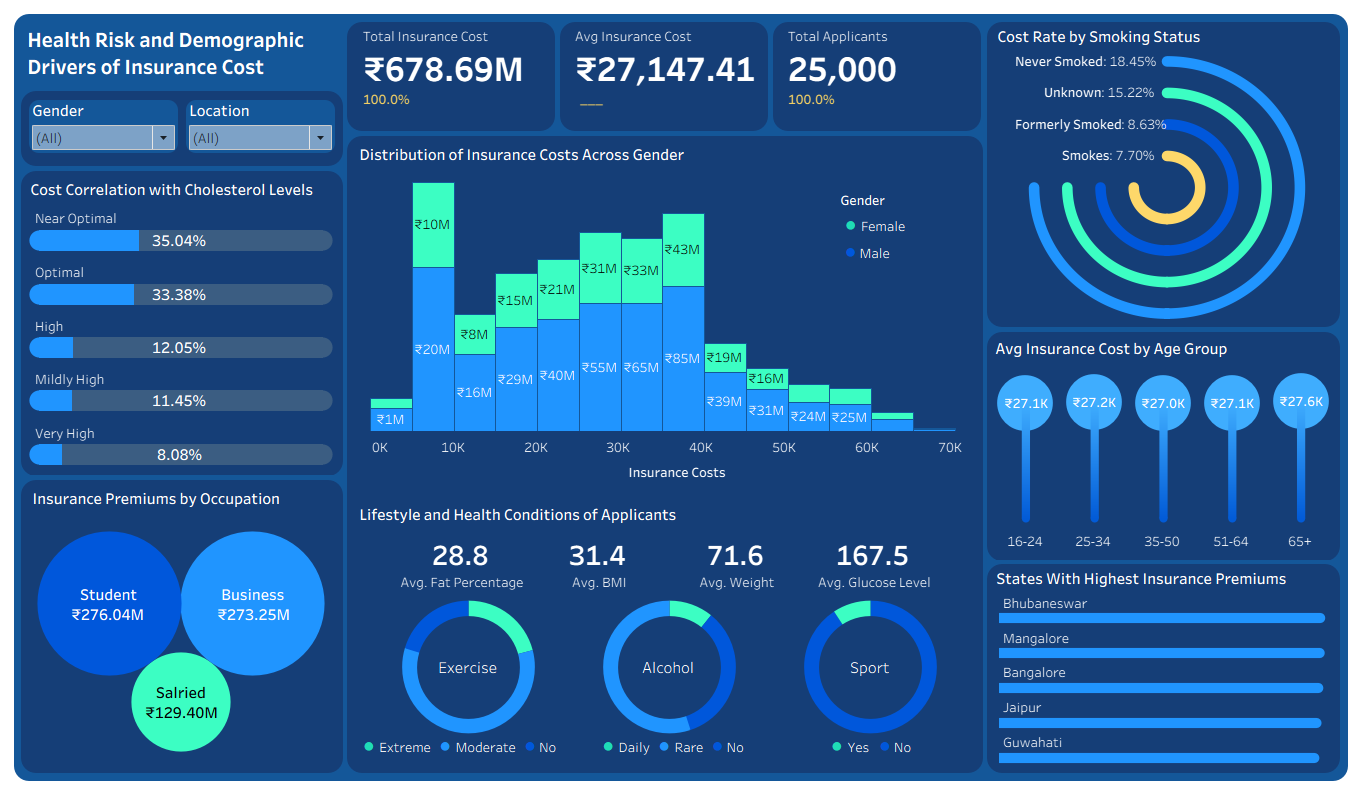

The dashboard page shown, as its layout file describes it:
{"tool":"tableau","page":{"name":"Overview","canvas":[1000,1000],"units":"permille","ordinal":0},"visuals":[{"type":"worksheet","title":"Total Insure","mark":"Automatic","box":[296.3,52.9,126.1,134]},{"type":"worksheet","title":"Avg Insure","mark":"Automatic","box":[424.9,52.9,126.1,134]},{"type":"worksheet","title":"Count of App.","mark":"Automatic","box":[554,52.9,126.1,134]},{"type":"blank","box":[89.9,56.4,808.7,902.5]},{"type":"text","box":[96,58.8,210.6,85.8]},{"type":"text","box":[683.8,62.3,188.9,41.1]},{"type":"blank","box":[291.5,65.8,126.1,128.1]},{"type":"blank","box":[420.6,65.8,126.1,128.1]},{"type":"blank","box":[549.8,65.8,126.1,128.1]},{"type":"blank","box":[679.5,65.8,214.2,358.4]},{"type":"worksheet","title":"Smoking Radial","mark":"Line","box":[696.4,90.5,183.5,338.4]},{"type":"blank","box":[94.2,146.9,194.9,88.1]},{"type":"filter","title":"Filters","param":"[federated.0mix84j1bg9yli1973xne18jgpg7].[none:Gender:nk]","box":[99,157.5,90.5,62.3]},{"type":"filter","title":"Filters","param":"[federated.0mix84j1bg9yli1973xne18jgpg7].[none:Location:nk]","box":[193.7,157.5,90.5,62.3]},{"type":"blank","box":[291.6,199.8,385.2,749.7]},{"type":"text","box":[296.9,200.9,214.8,41.1]},{"type":"worksheet","title":"Filters","mark":"Automatic","box":[284.9,216.2,333.1,332.6]},{"type":"worksheet","title":"Dist, Ins. by Gender","mark":"Bar","rows":["applicant_id"],"cols":["Insurance Cost (bin)"],"box":[305.4,240,372.1,374.1]},{"type":"blank","box":[94.2,240.9,194.9,358.4]},{"type":"text","box":[97.8,242.1,176.8,41.1]},{"type":"text","box":[588.7,260.9,59.6,94]},{"type":"worksheet","title":"Cholestrol Level Labels","mark":"Circle","rows":["cholesterol_level"],"box":[99,264.4,141.2,316.1]},{"type":"worksheet","title":"Cholestrol Level","mark":"Automatic","rows":["cholesterol_level"],"box":[90.5,291.4,201,313.8]},{"type":"text","box":[682.6,428.9,187.7,41.1]},{"type":"blank","box":[679.5,430.1,214.2,269.1]},{"type":"worksheet","title":"Age Dist.","mark":"Line","rows":["insurance_cost"],"box":[682,472.4,208.2,215]},{"type":"blank","box":[94.2,605.2,194.9,344.3]},{"type":"text","box":[99,606.4,172,41.1]},{"type":"text","box":[297,624.7,206.1,41.2]},{"type":"worksheet","title":"Medical Status","mark":"Automatic","box":[318.7,640.4,333.1,104.6]},{"type":"worksheet","title":"Occupation","mark":"Circle","box":[103,655.7,174.9,278.5]},{"type":"worksheet","title":"Medical Status Titles","mark":"Automatic","box":[318.2,687.1,332.7,70.6]},{"type":"text","box":[683,700,194.6,41.2]},{"type":"blank","box":[679.5,703.9,214.2,245.6]},{"type":"worksheet","title":"Exercise Chart","mark":"Pie","cols":["Calculation_1264201156042767","Calculation_1264201156079633"],"box":[304.2,722.7,121.9,204.5]},{"type":"worksheet","title":"Alcohol","mark":"Pie","cols":["Calculation_1264201156042767","Calculation_1264201156079633"],"box":[426.1,722.7,121.9,204.5]},{"type":"worksheet","title":"Sport","mark":"Pie","cols":["Calculation_1264201156042767","Calculation_1264201156079633"],"box":[548,722.7,121.9,204.5]},{"type":"worksheet","title":"Location Labels","mark":"Circle","rows":["Location (copy)_1246884514562048"],"box":[685.6,728.6,144.8,204.5]},{"type":"worksheet","title":"Location","mark":"Line","rows":["Location (copy)_1246884514562048"],"box":[686.8,746.2,204.6,205.6]},{"type":"text","box":[294.7,895.4,130.3,41.1]},{"type":"text","box":[436.7,895.4,104.2,41.1]},{"type":"text","box":[574.5,895.4,68.8,41.1]}]}

Visuals, with their boxes on the dashboard's canvas, which has no fixed pixel size, in thousandths of its width and height (x1, y1, x2, y2). These are canvas units, not pixel positions in the 1361x792 screenshot, which may show the page scaled, cropped or inside an application window:
"Total Insure" worksheet: [296,53,422,187]
"Avg Insure" worksheet: [425,53,551,187]
"Count of App." worksheet: [554,53,680,187]
blank: [90,56,899,959]
text: [96,59,307,145]
text: [684,62,873,103]
blank: [292,66,418,194]
blank: [421,66,547,194]
blank: [550,66,676,194]
blank: [680,66,894,424]
"Smoking Radial" worksheet (Line marks): [696,90,880,429]
blank: [94,147,289,235]
"Filters" filter: [99,158,190,220]
"Filters" filter: [194,158,284,220]
blank: [292,200,677,950]
text: [297,201,512,242]
"Filters" worksheet: [285,216,618,549]
"Dist, Ins. by Gender" worksheet (Bar marks): [305,240,678,614]
blank: [94,241,289,599]
text: [98,242,275,283]
text: [589,261,648,355]
"Cholestrol Level Labels" worksheet (Circle marks): [99,264,240,580]
"Cholestrol Level" worksheet: [90,291,292,605]
text: [683,429,870,470]
blank: [680,430,894,699]
"Age Dist." worksheet (Line marks): [682,472,890,687]
blank: [94,605,289,950]
text: [99,606,271,648]
text: [297,625,503,666]
"Medical Status" worksheet: [319,640,652,745]
"Occupation" worksheet (Circle marks): [103,656,278,934]
"Medical Status Titles" worksheet: [318,687,651,758]
text: [683,700,878,741]
blank: [680,704,894,950]
"Exercise Chart" worksheet (Pie marks): [304,723,426,927]
"Alcohol" worksheet (Pie marks): [426,723,548,927]
"Sport" worksheet (Pie marks): [548,723,670,927]
"Location Labels" worksheet (Circle marks): [686,729,830,933]
"Location" worksheet (Line marks): [687,746,891,952]
text: [295,895,425,936]
text: [437,895,541,936]
text: [574,895,643,936]
